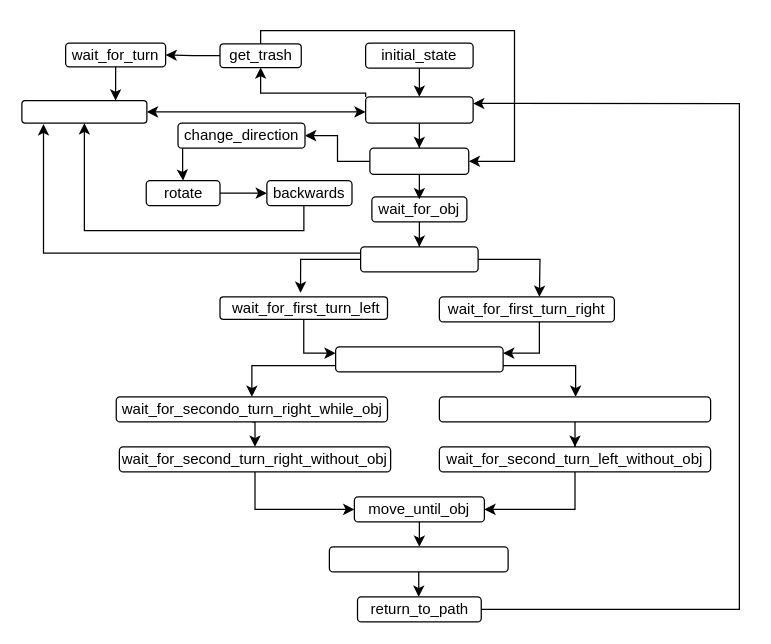
Some shapes in this 771 by 644 pixel diagram are drawn without their labels. Each missing label, with the centre of its shape:
"analyse_SIP" belongs at point (418, 109).
"first_move_while_obj" belongs at point (418, 359).
"lim_or_obj" belongs at point (419, 160).
"next_command" belongs at point (84, 111).
"second_move_while_obj" belongs at point (418, 559).
"theres_still_obj" belongs at point (418, 259).
"wait_for_secondo_turn_left_while_obj" belongs at point (574, 409).
